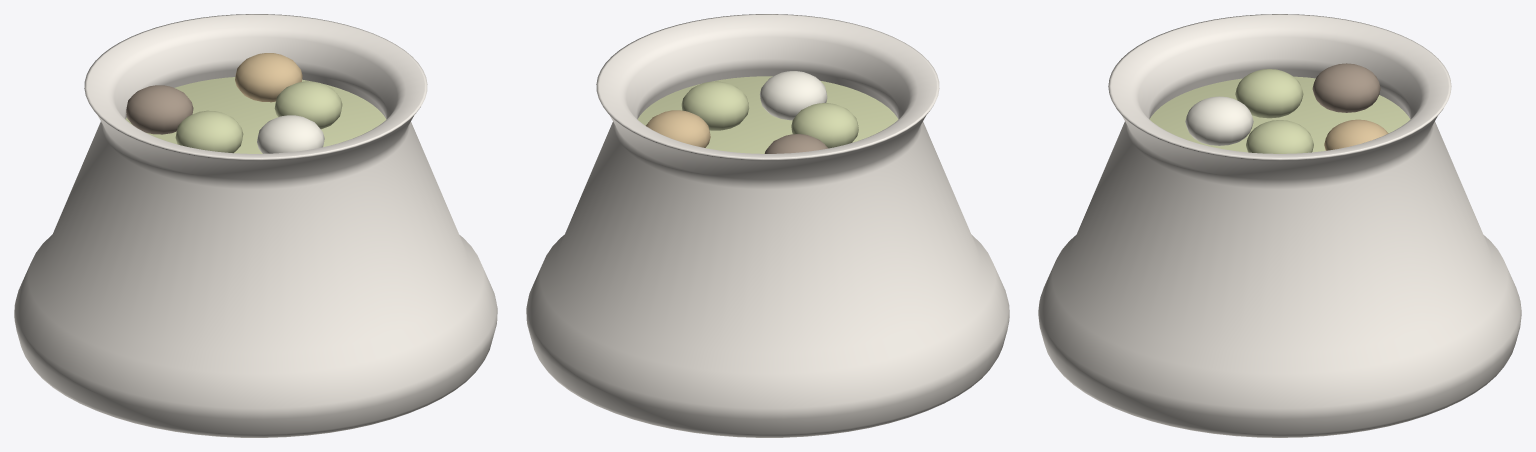
Rendered from matcha-parfait-table.glb.
3 renders of one model, left to right at view 1: azimuth 30°, elevation 25°; view 2: azimuth 150°, elevation 25°; view 3: azimuth 270°, elevation 25°, orthographic.
Visible parts, largest first — view 1: Layered glass parfait cup, Matcha yoghurt layer, Parfait fruit and crunch.001, Parfait fruit and crunch.003, Parfait fruit and crunch.004, Parfait fruit and crunch, Parfait fruit and crunch.002; view 2: Layered glass parfait cup, Matcha yoghurt layer, Parfait fruit and crunch, Parfait fruit and crunch.002, Parfait fruit and crunch.004, Parfait fruit and crunch.003, Parfait fruit and crunch.001; view 3: Layered glass parfait cup, Matcha yoghurt layer, Parfait fruit and crunch.002, Parfait fruit and crunch.001, Parfait fruit and crunch.004, Parfait fruit and crunch, Parfait fruit and crunch.003.
Boxes of the visible parts, <box> form: Layered glass parfait cup: <box>14,14,497,437</box>; Matcha yoghurt layer: <box>125,77,386,153</box>; Parfait fruit and crunch.001: <box>126,85,193,134</box>; Parfait fruit and crunch.003: <box>235,53,302,102</box>; Parfait fruit and crunch.004: <box>175,110,243,153</box>; Parfait fruit and crunch: <box>274,81,342,129</box>; Parfait fruit and crunch.002: <box>257,115,324,153</box>; Layered glass parfait cup: <box>526,14,1009,437</box>; Matcha yoghurt layer: <box>637,76,898,153</box>; Parfait fruit and crunch: <box>681,81,749,130</box>; Parfait fruit and crunch.002: <box>759,71,827,120</box>; Parfait fruit and crunch.004: <box>791,103,858,148</box>; Parfait fruit and crunch.003: <box>646,110,710,147</box>; Parfait fruit and crunch.001: <box>764,134,827,153</box>; Layered glass parfait cup: <box>1038,14,1521,437</box>; Matcha yoghurt layer: <box>1149,76,1410,152</box>; Parfait fruit and crunch.002: <box>1185,96,1253,145</box>; Parfait fruit and crunch.001: <box>1312,63,1380,112</box>; Parfait fruit and crunch.004: <box>1235,69,1303,118</box>; Parfait fruit and crunch: <box>1246,120,1313,153</box>; Parfait fruit and crunch.003: <box>1324,119,1388,150</box>.
Size of the model in its own units: 0.6371 by 0.3881 by 0.6371.
